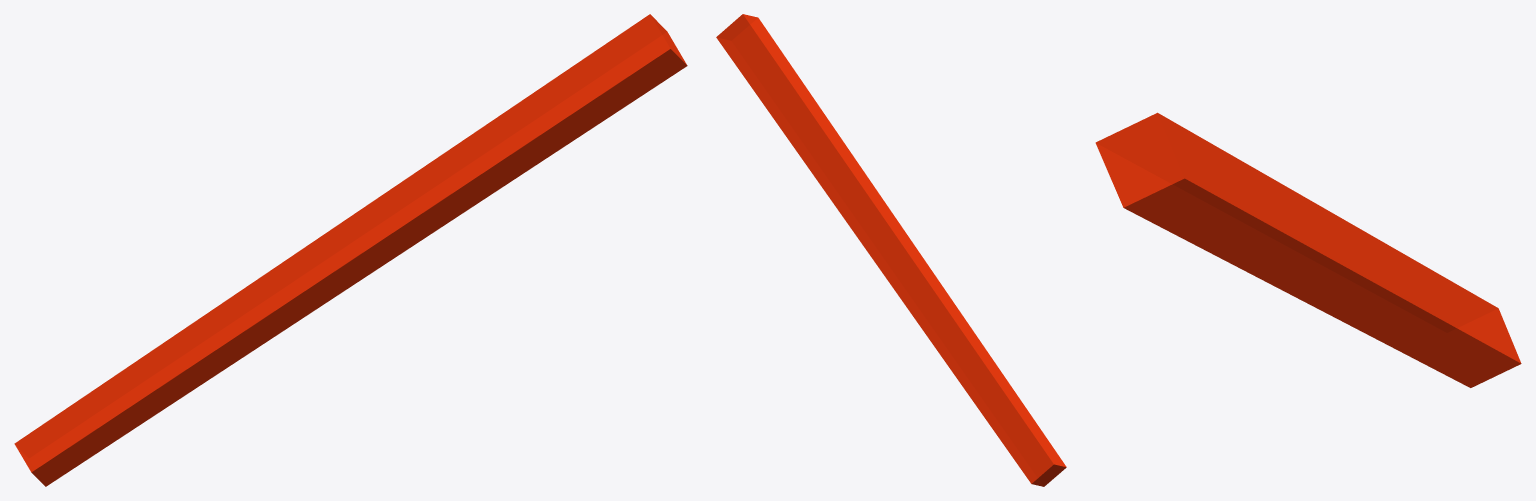
File: Event_421115418_EBrechit_37.fbx
The picture shows the model from 3 angles, left to right: view 1: azimuth 30°, elevation 25°; view 2: azimuth 150°, elevation 25°; view 3: azimuth 270°, elevation 25°; orthographic projection. The views are drawn at different scales.
Parts seen in each view (by area): view 1: Model; view 2: Model; view 3: Model.
Part boxes in pixels (<box>): Model: <box>14,14,687,486</box>; Model: <box>716,14,1066,486</box>; Model: <box>1095,112,1521,387</box>.
Size of the model in its own units: 0.925 by 0.6859 by 0.41.
